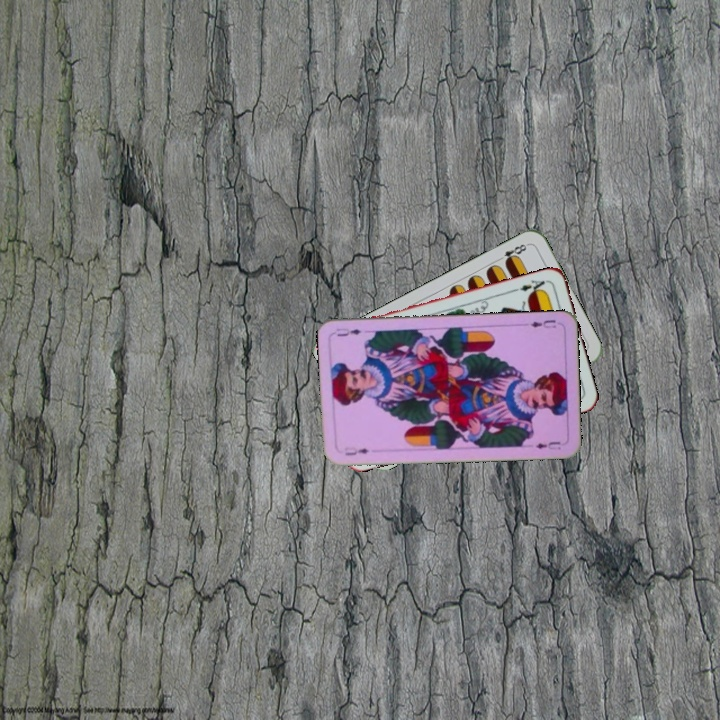E8: (493, 240, 531, 267)
EA: (516, 276, 551, 297)
EU: (526, 316, 558, 331), (340, 443, 371, 458)
